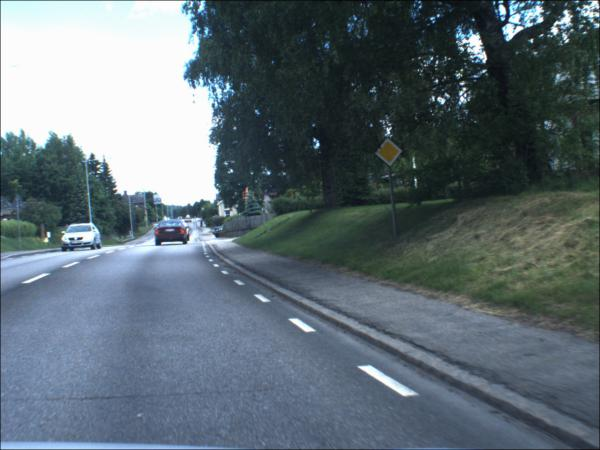PRIORITY_ROAD: (375, 137, 405, 169)
